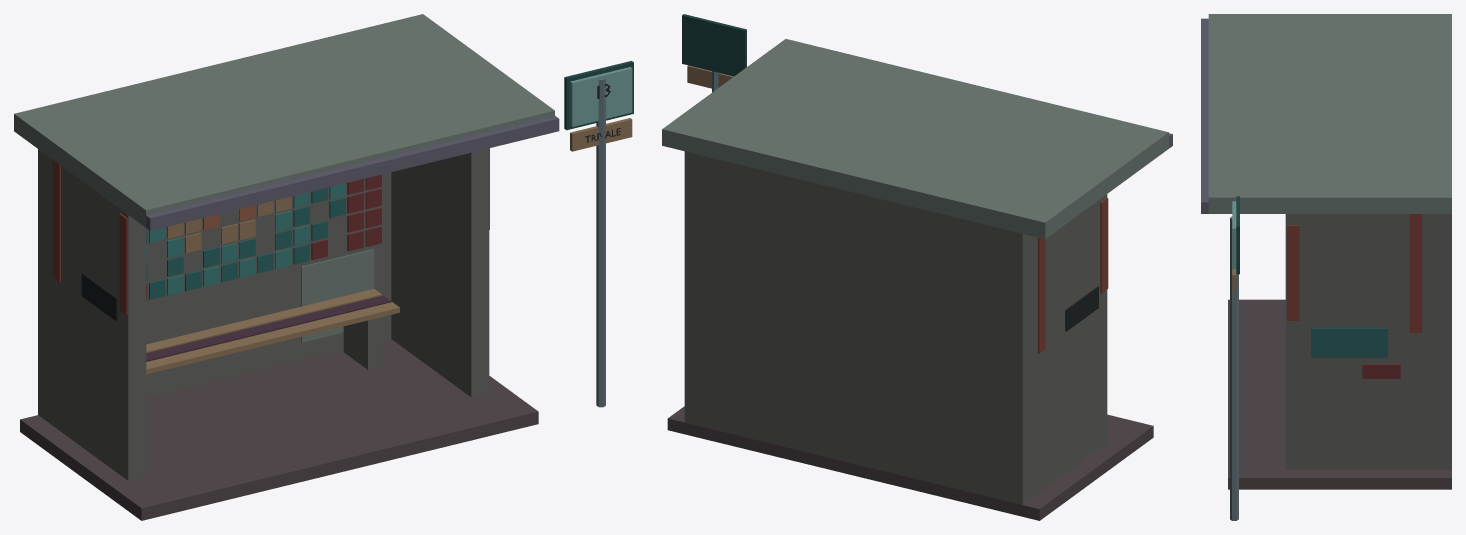
File: statie_rurala.glb
3 views of the same model, side by side, from view 1: azimuth 30°, elevation 25°; view 2: azimuth 150°, elevation 25°; view 3: azimuth 270°, elevation 25° (orthographic). The views are drawn at different scales.
Visible parts, largest first — view 1: StatieRurala; view 2: StatieRurala; view 3: StatieRurala.
Boxes of the visible parts, left/top/right/bottom form: StatieRurala: left=14, top=14, right=633, bottom=520; StatieRurala: left=662, top=14, right=1172, bottom=520; StatieRurala: left=1201, top=14, right=1451, bottom=520.
Size of the model in its own units: 4.18 by 2.65 by 1.96.
